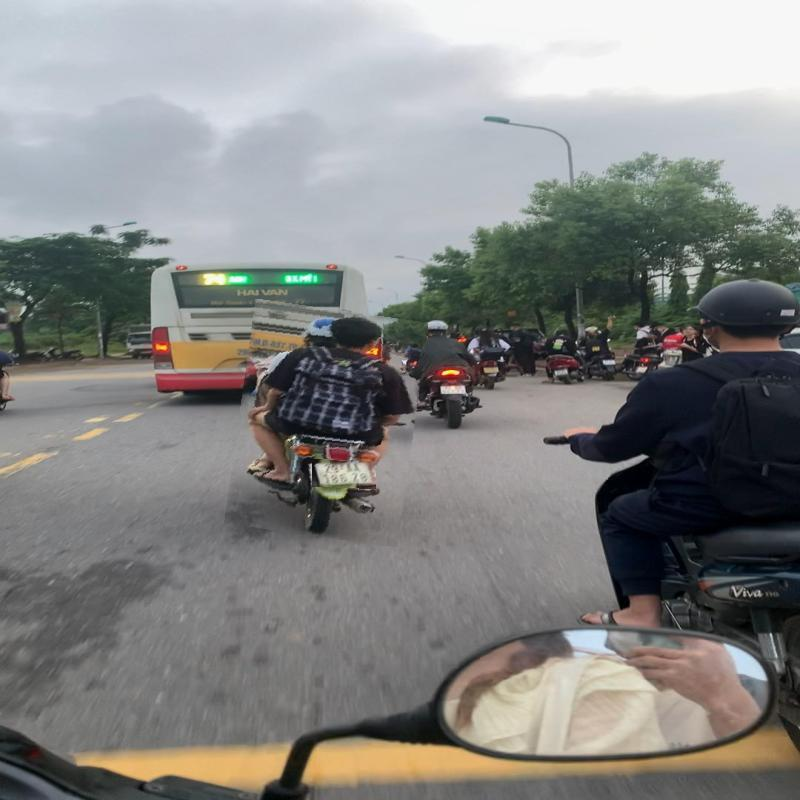licenseplate: (312, 460, 376, 488)
motorcyclist: (232, 303, 422, 541)
nohelmet: (316, 311, 374, 348)
